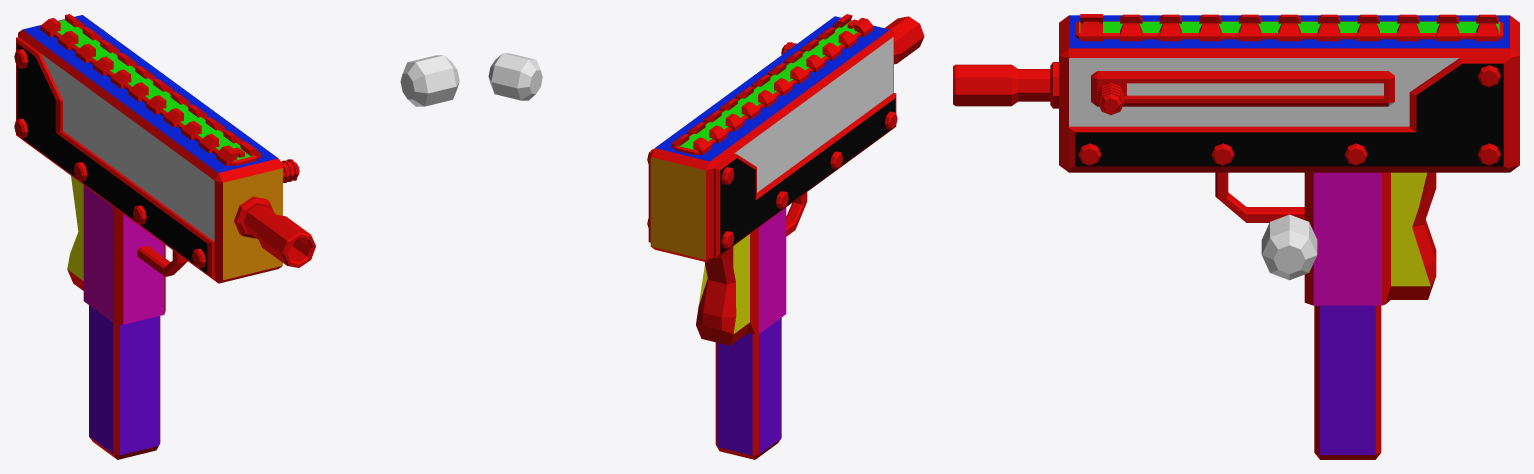
The model's file is Mini_Mack_Segmented.fbx.
3 views of the same model, side by side, from view 1: azimuth 30°, elevation 25°; view 2: azimuth 150°, elevation 25°; view 3: azimuth 270°, elevation 25° (orthographic). The views are drawn at different scales.
Parts seen in each view (by area): view 1: Cube, Cylinder.001; view 2: Cube, Cylinder.001; view 3: Cube, Cylinder.001.
Boxes of the visible parts, <box> form: Cube: <box>14,14,315,459</box>; Cylinder.001: <box>400,55,459,106</box>; Cube: <box>647,14,924,459</box>; Cylinder.001: <box>488,53,542,100</box>; Cube: <box>953,14,1519,459</box>; Cylinder.001: <box>1261,214,1317,280</box>.
Size of the model in its own units: 567 by 598 by 716.
